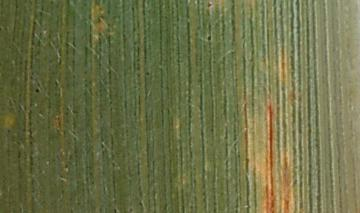tarspot: (207, 34, 213, 42), (35, 87, 40, 93)
